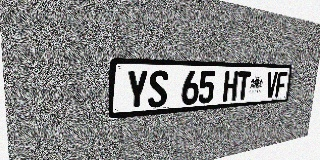5: (198, 71, 215, 104)
6: (181, 71, 200, 105)
F: (275, 72, 288, 97)
H: (223, 71, 239, 102)
S: (148, 70, 169, 108)
T: (236, 71, 251, 100)
V: (265, 72, 278, 98)
Y: (125, 70, 148, 110)
